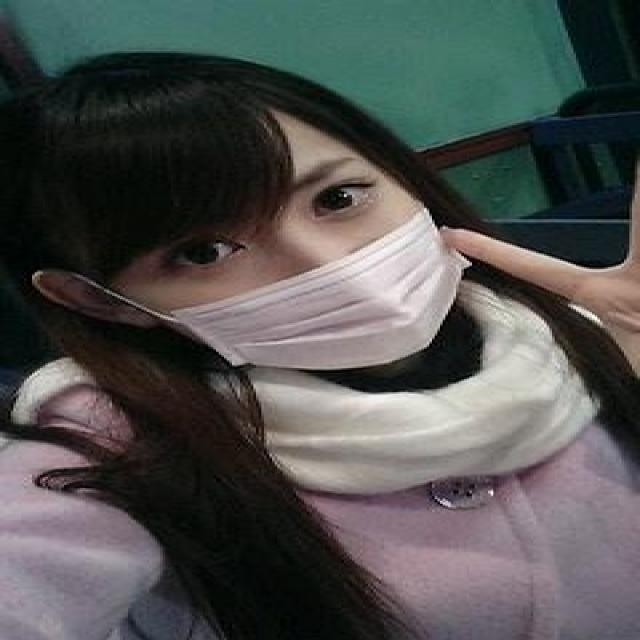mask: (124, 87, 452, 361)
